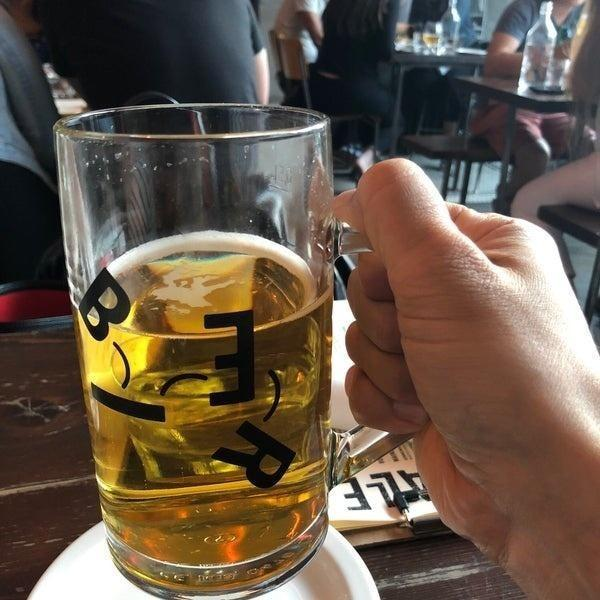glass-mug: (40, 93, 431, 600)
